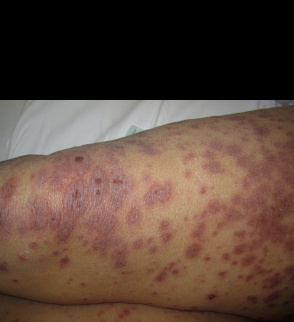SJS-TEN: (0, 109, 294, 307)
